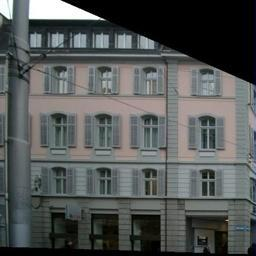building: (28, 17, 251, 256)
